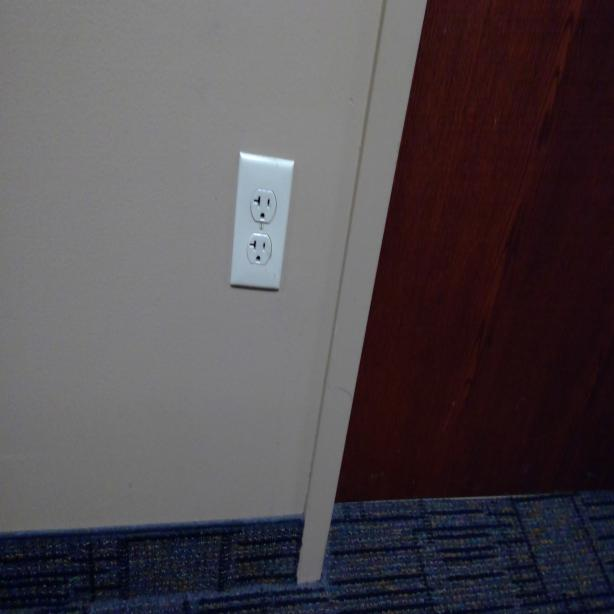typeb: (251, 186, 275, 224), (248, 234, 272, 268)
